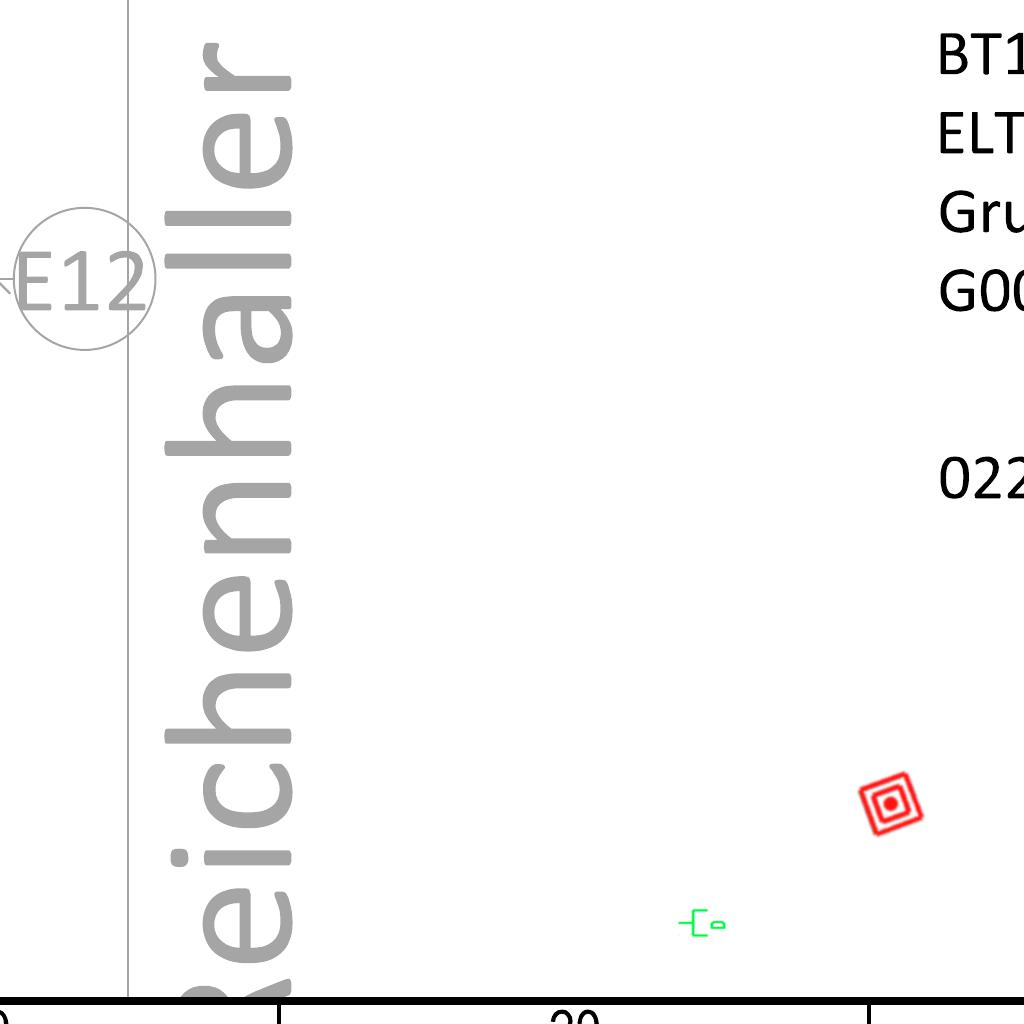Datenanschluss_einfach: (677, 905, 727, 939)
NAM-Nichtautomatischer_Melder: (855, 768, 927, 840)
